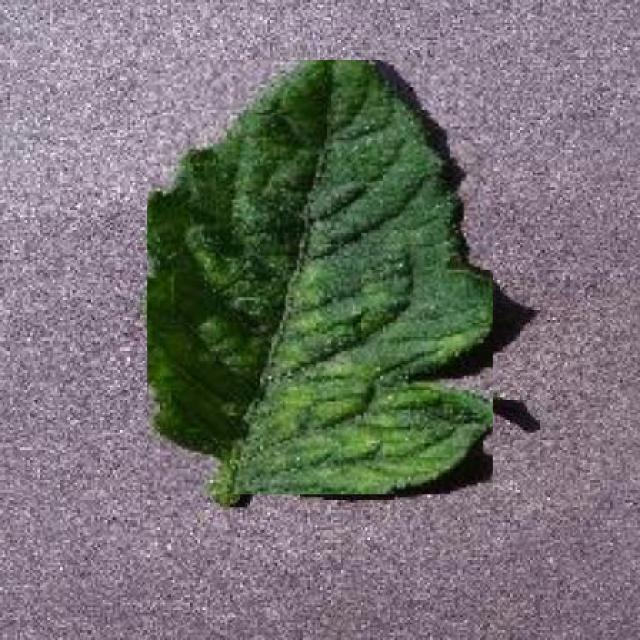Mosaic Virus: (148, 59, 493, 494)
